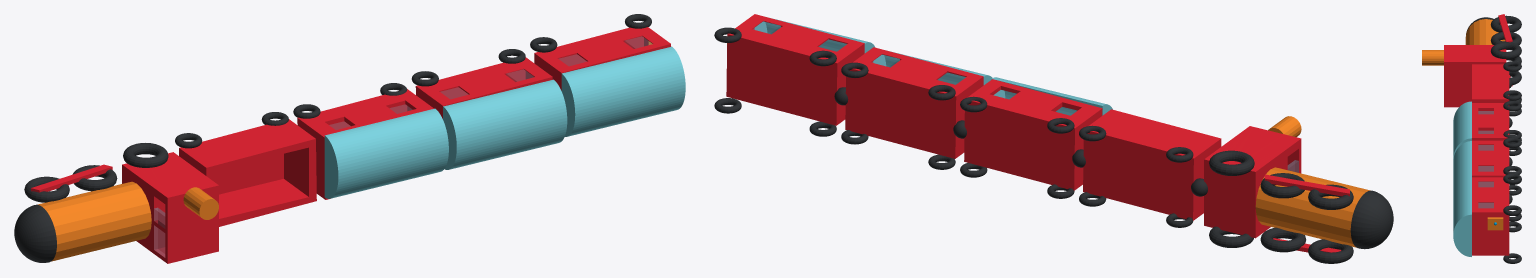
File: tinker.obj
The picture shows the model from 3 angles, left to right: view 1: azimuth 30°, elevation 25°; view 2: azimuth 150°, elevation 25°; view 3: azimuth 270°, elevation 25°; orthographic projection. The views are drawn at different scales.
Visible parts, largest first — view 1: group_0_15277357, group_0_7720667, group_0_2829873, group_0_16089887, group_0_-1031418394; view 2: group_0_15277357, group_0_2829873, group_0_16089887, group_0_7720667, group_0_-1031418394; view 3: group_0_15277357, group_0_2829873, group_0_7720667, group_0_16089887, group_0_-1031418394.
Boxes of the visible parts, x1=… form: group_0_15277357: x1=31, y1=27, x2=670, y2=263; group_0_7720667: x1=324, y1=46, x2=685, y2=198; group_0_2829873: x1=14, y1=14, x2=651, y2=262; group_0_16089887: x1=37, y1=41, x2=652, y2=261; group_0_-1031418394: x1=154, y1=36, x2=651, y2=257; group_0_15277357: x1=726, y1=14, x2=1349, y2=252; group_0_2829873: x1=714, y1=27, x2=1393, y2=263; group_0_16089887: x1=727, y1=43, x2=1370, y2=247; group_0_7720667: x1=754, y1=18, x2=1112, y2=115; group_0_-1031418394: x1=753, y1=22, x2=1298, y2=172; group_0_15277357: x1=1444, y1=14, x2=1512, y2=255; group_0_2829873: x1=1466, y1=15, x2=1521, y2=263; group_0_7720667: x1=1453, y1=101, x2=1471, y2=256; group_0_16089887: x1=1422, y1=19, x2=1505, y2=230; group_0_-1031418394: x1=1478, y1=111, x2=1493, y2=207.
Bounding box in the file's own units: 165 × 21.75 × 32.
